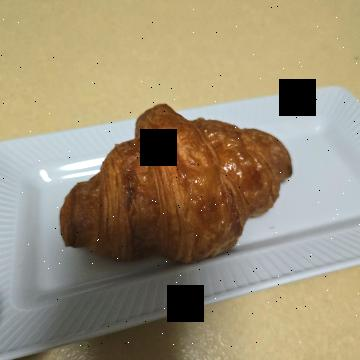croissant: (108, 52, 273, 301)
